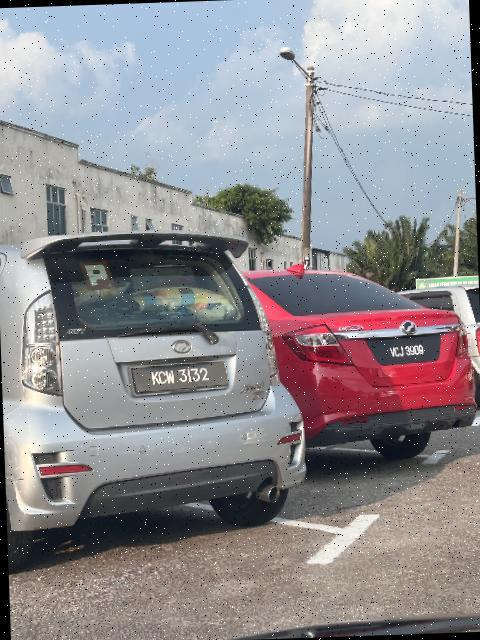KCW3132: (128, 359, 231, 399)
License_Plate: (128, 359, 231, 399), (372, 337, 443, 366)
VCJ3909: (372, 337, 443, 366)
car: (1, 221, 307, 562), (225, 258, 480, 490)
